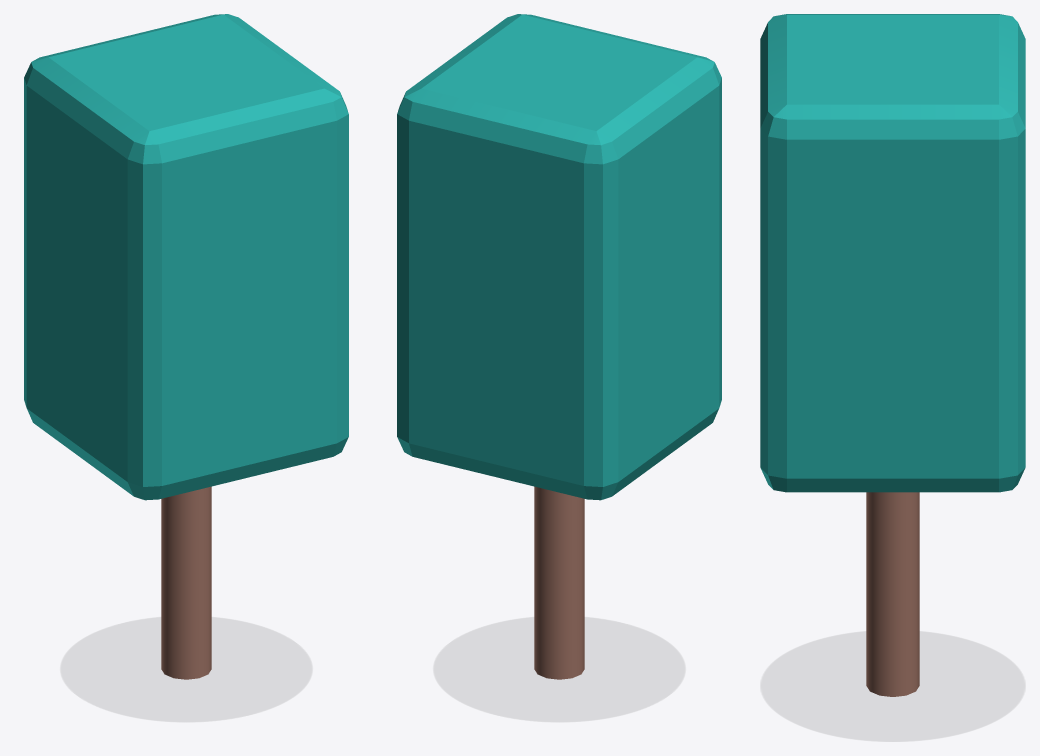
Rendered from tree1.dae.
3 renders of one model, left to right at view 1: azimuth 30°, elevation 25°; view 2: azimuth 150°, elevation 25°; view 3: azimuth 270°, elevation 25°, orthographic. The views are drawn at different scales.
Visible parts, largest first — view 1: leaves, trunk; view 2: leaves, trunk; view 3: leaves, trunk.
Boxes of the visible parts, x1,y1,x2,y2 form: leaves: (24, 14, 348, 500); trunk: (161, 486, 211, 679); leaves: (397, 14, 721, 500); trunk: (534, 486, 584, 679); leaves: (760, 14, 1025, 492); trunk: (866, 492, 919, 696).
Size of the model in its own units: 100 by 260 by 100.
